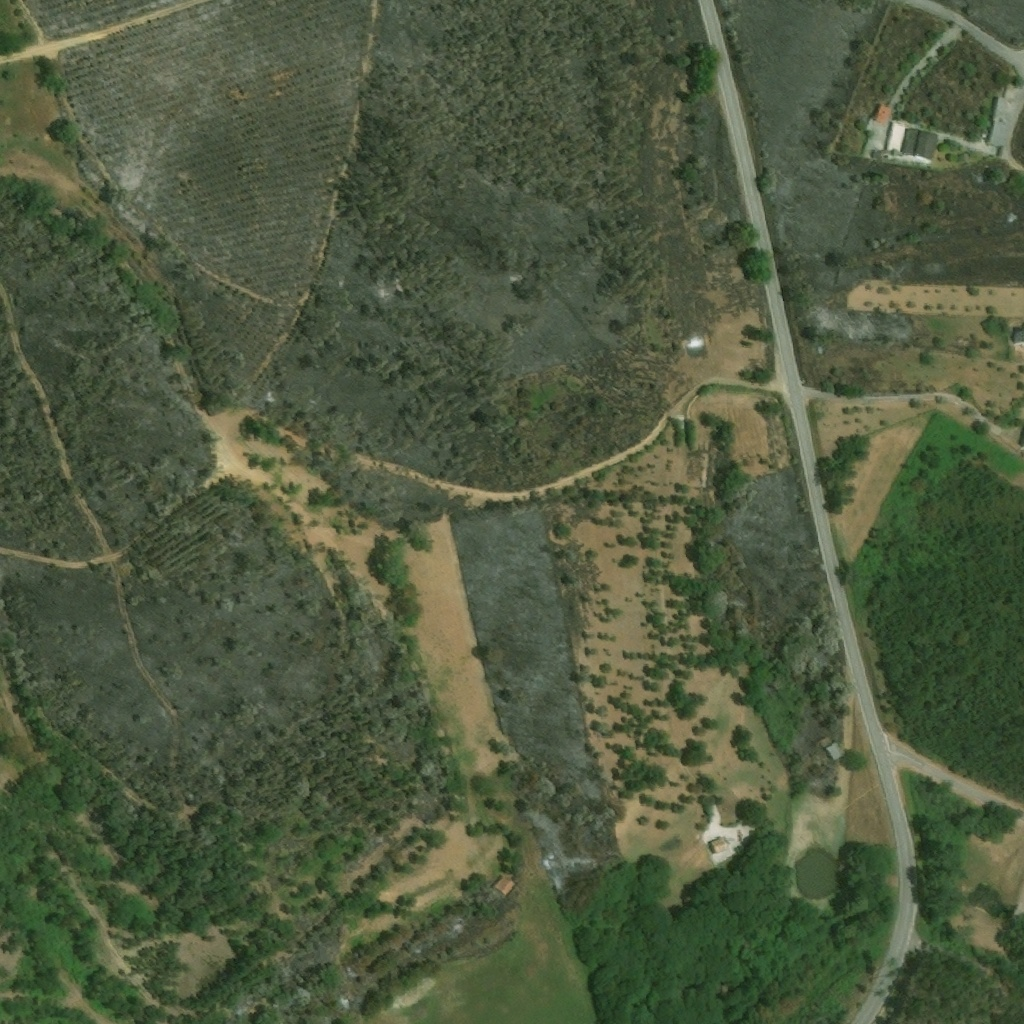0 no-damage: (884, 121, 939, 160), (986, 84, 1019, 144), (493, 873, 517, 896), (872, 102, 893, 124), (706, 835, 729, 854), (825, 741, 846, 761)
4 un-classified: (1012, 326, 1023, 344)
